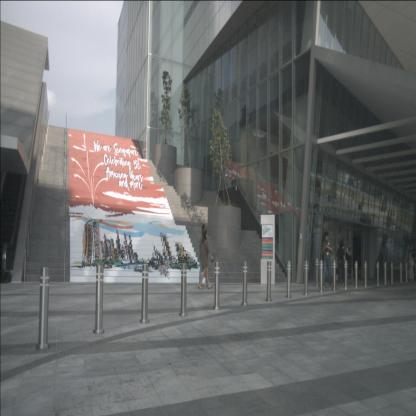human-pedestrian-adult: (198, 230, 215, 289), (198, 223, 212, 289), (321, 231, 333, 290), (336, 240, 347, 286), (408, 252, 415, 282)
